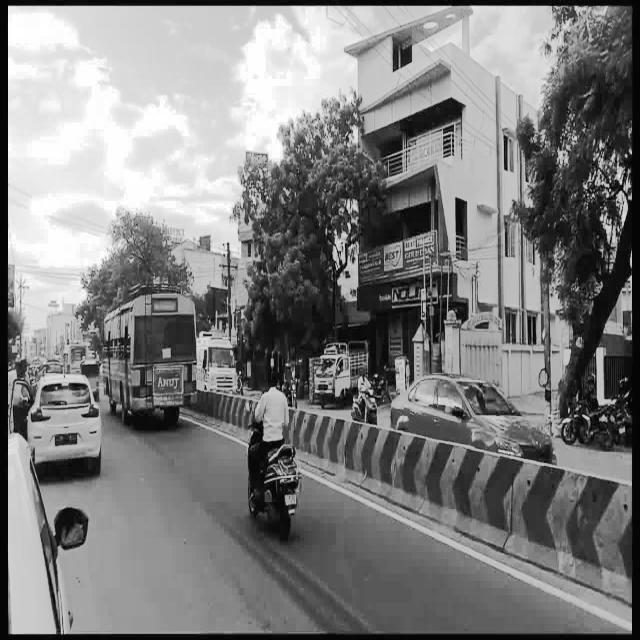Ambulance: (199, 335, 242, 397)
